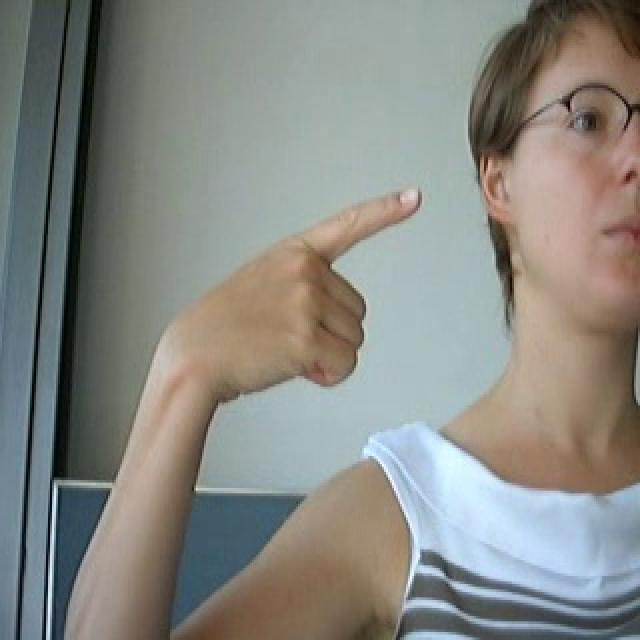G: (174, 175, 438, 432)
